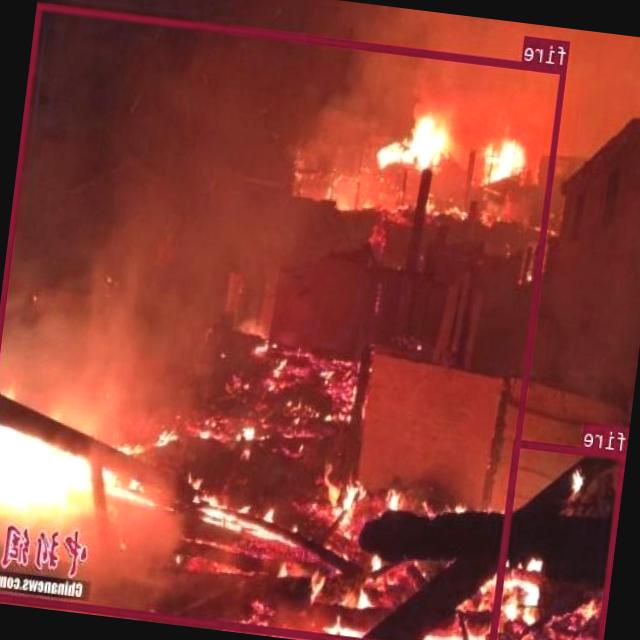fire: (0, 1, 568, 640), (489, 437, 626, 640)
